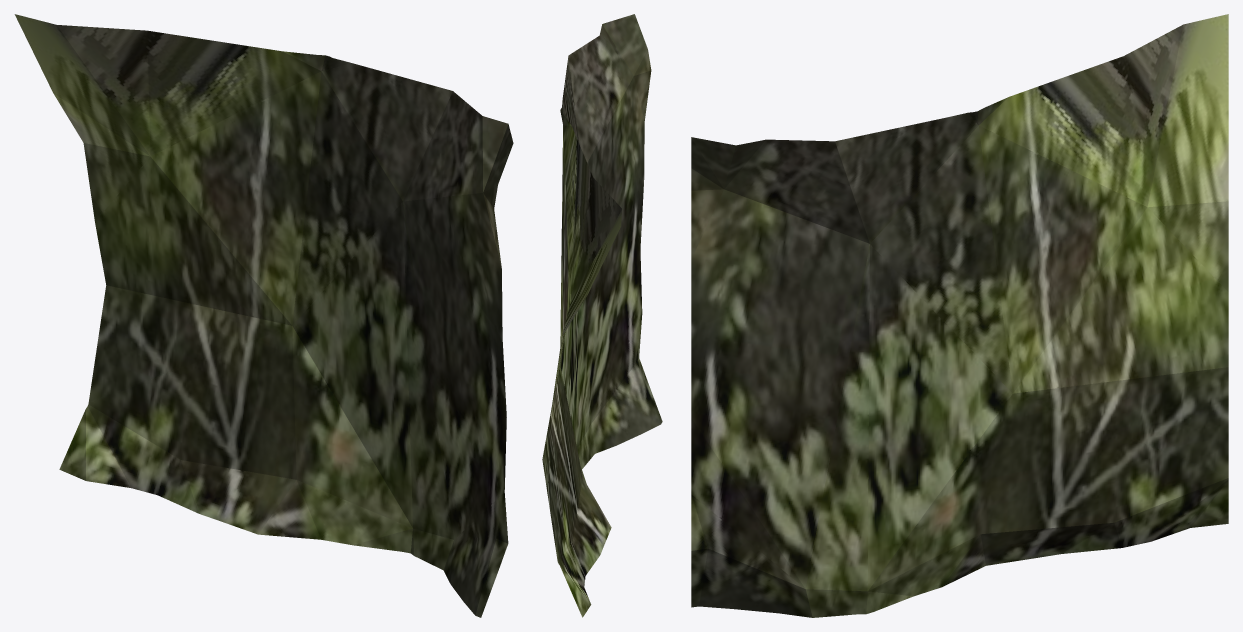
The picture shows the model from 3 angles, left to right: view 1: azimuth 30°, elevation 25°; view 2: azimuth 150°, elevation 25°; view 3: azimuth 270°, elevation 25°; orthographic projection. The views are drawn at different scales.
Bounding box in the file's own units: 1.71 × 2.95 × 2.95.
Materials: 3 (3 with a texture image).
